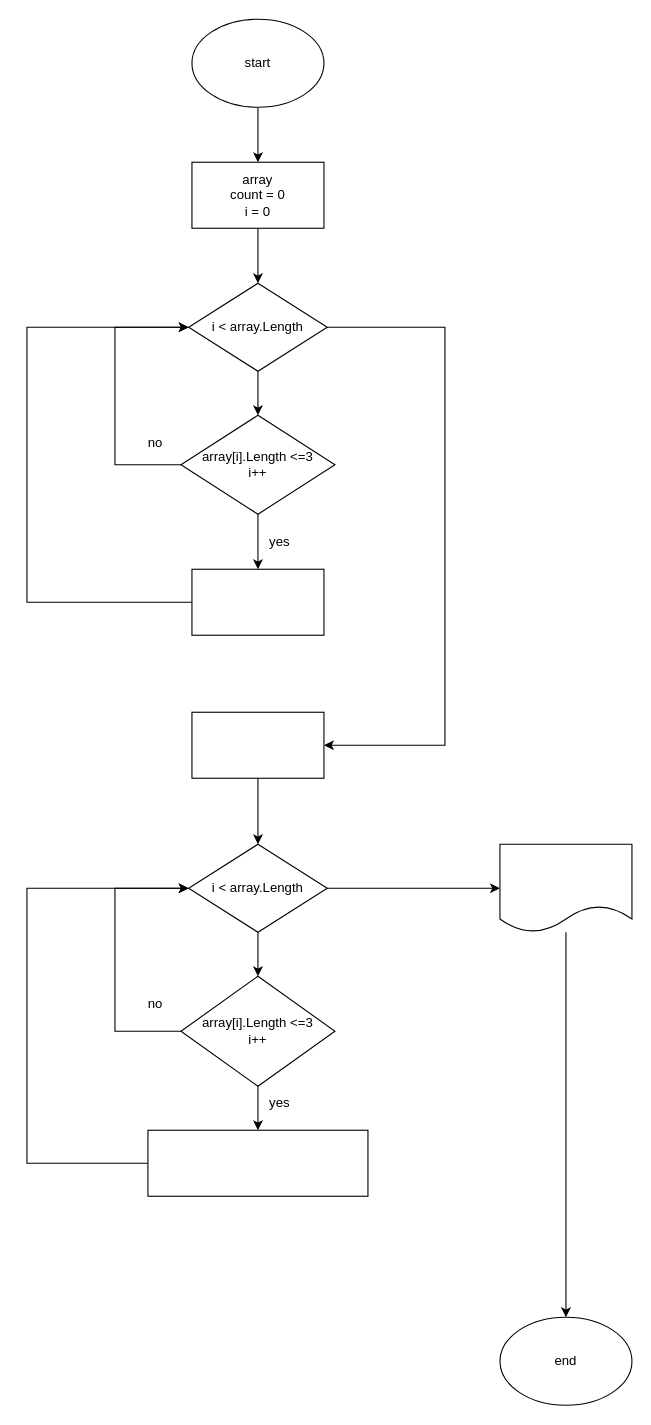
The diagram is 651 pixels wide and 1425 high, and some of its shapes have lost their labels. Each missing label, with the centre of its shape:
counter++: pixel 257 601
newArray: pixel 565 887
newArray[counter] = array[i] counter++: pixel 257 1162
newArray[counter] counter = 0: pixel 257 744
